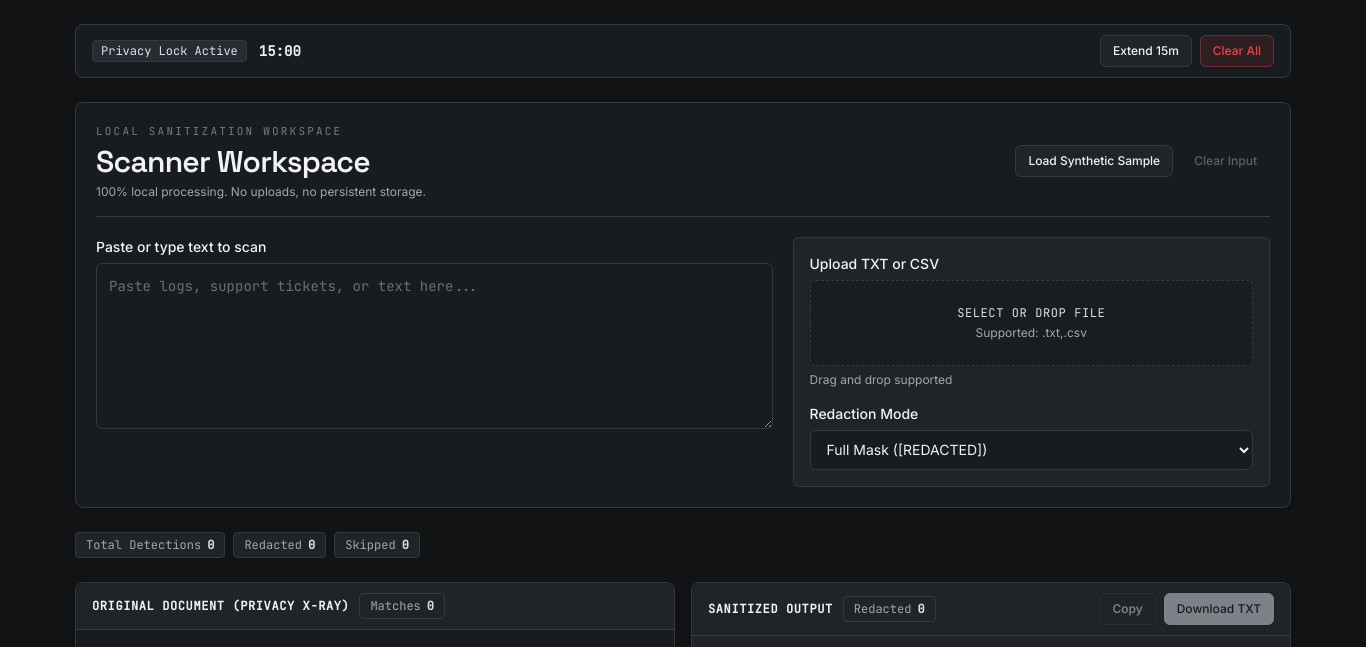
Test: Phase 3 ScannerWorkspace › switches to Partial Mask mode and clears input cleanly
The image size is (1366, 647).
Click the button "Load Synthetic Sample" at point(1094, 161), box [1015,145,1173,177]
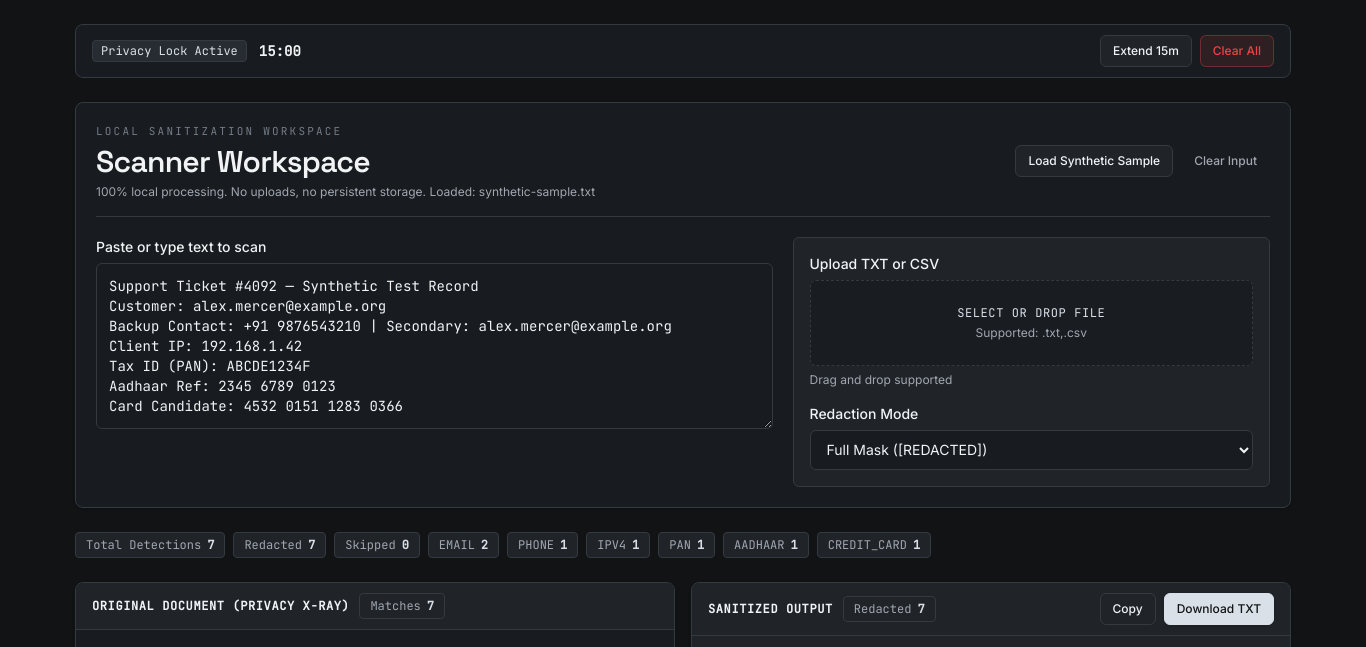
Select "Partial Mask" in the dropdown labelled "Redaction Mode" at point(1031, 450), box [810,430,1253,470]
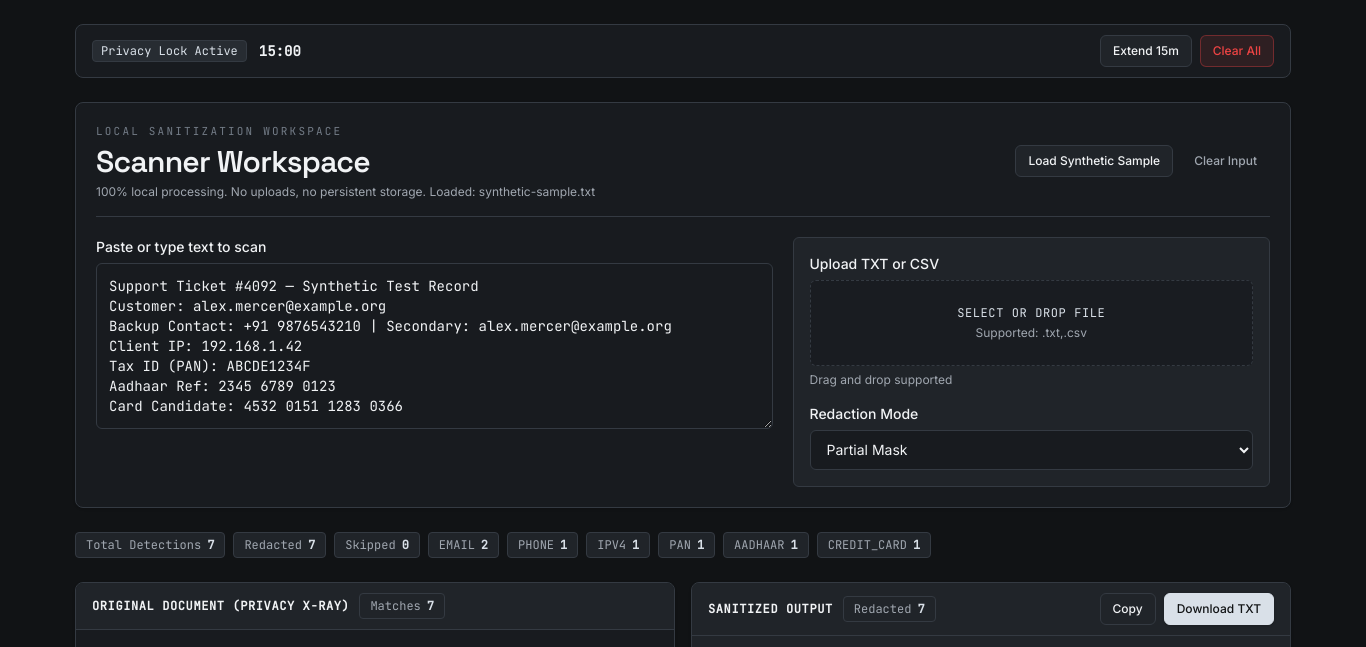
Click the button "Clear Input" at point(1226, 161), box [1181,145,1270,177]
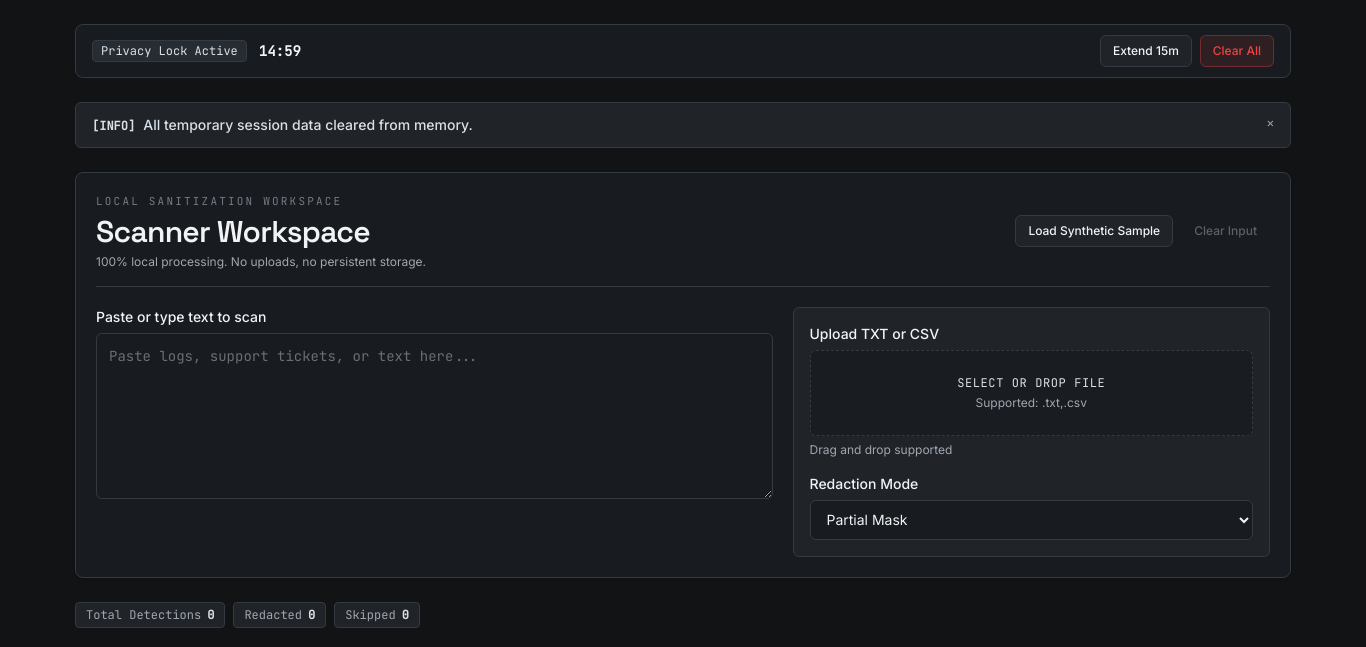
expect the text "All temporary session data cleared from memory." is shown: met, box [143,116,473,133]
